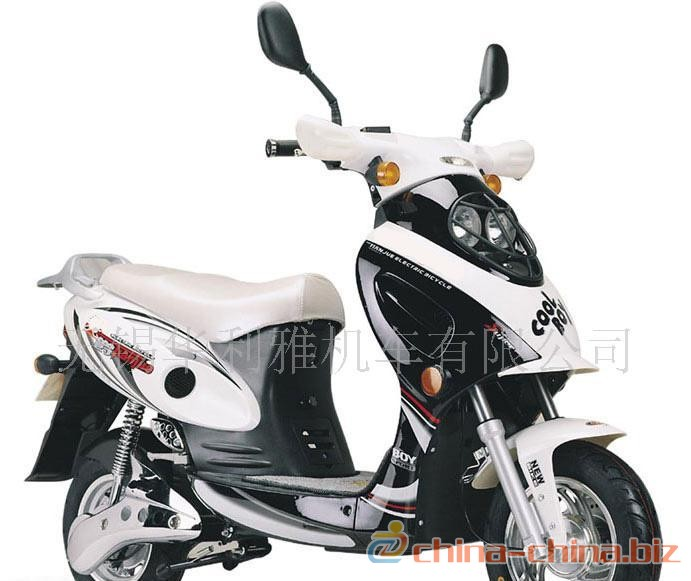电动车: (28, 2, 665, 581)
